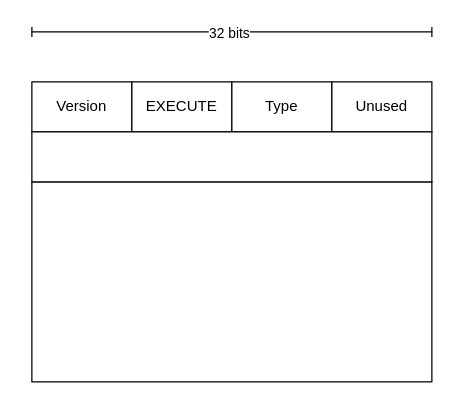
The diagram is 465 pixels wide and 404 high, and some of its shapes have lost their labels. Each missing label, with the centre of its shape:
Command 2400 bits: [231,281]
PID: [231,156]
